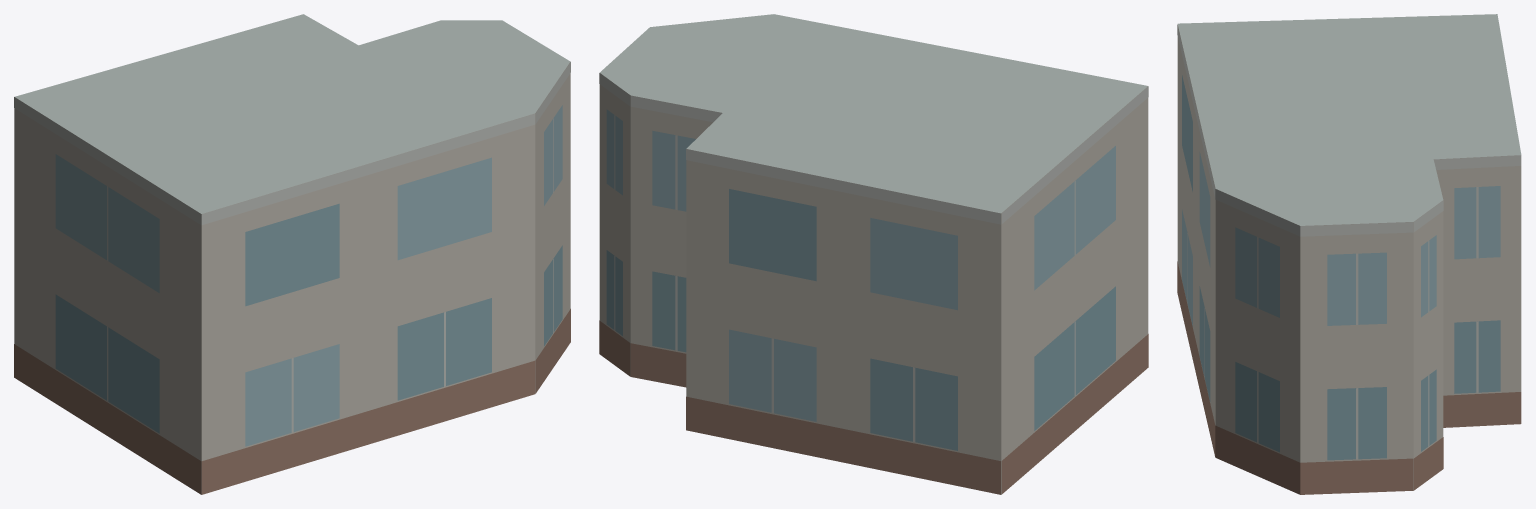
File: survey-upis-32461135.glb
The picture shows the model from 3 angles, left to right: view 1: azimuth 30°, elevation 25°; view 2: azimuth 150°, elevation 25°; view 3: azimuth 270°, elevation 25°; orthographic projection. The views are drawn at different scales.
Parts seen in each view (by area): view 1: survey-upis-32461135.tmp; view 2: survey-upis-32461135.tmp; view 3: survey-upis-32461135.tmp.
Boxes of the visible parts, x1,y1,x2,y2 form: survey-upis-32461135.tmp: (14, 14, 570, 494); survey-upis-32461135.tmp: (599, 14, 1148, 494); survey-upis-32461135.tmp: (1177, 14, 1521, 494).
Size of the model in its own units: 10.32 by 6.1 by 7.08.
